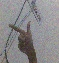hand: (7, 20, 36, 59)
